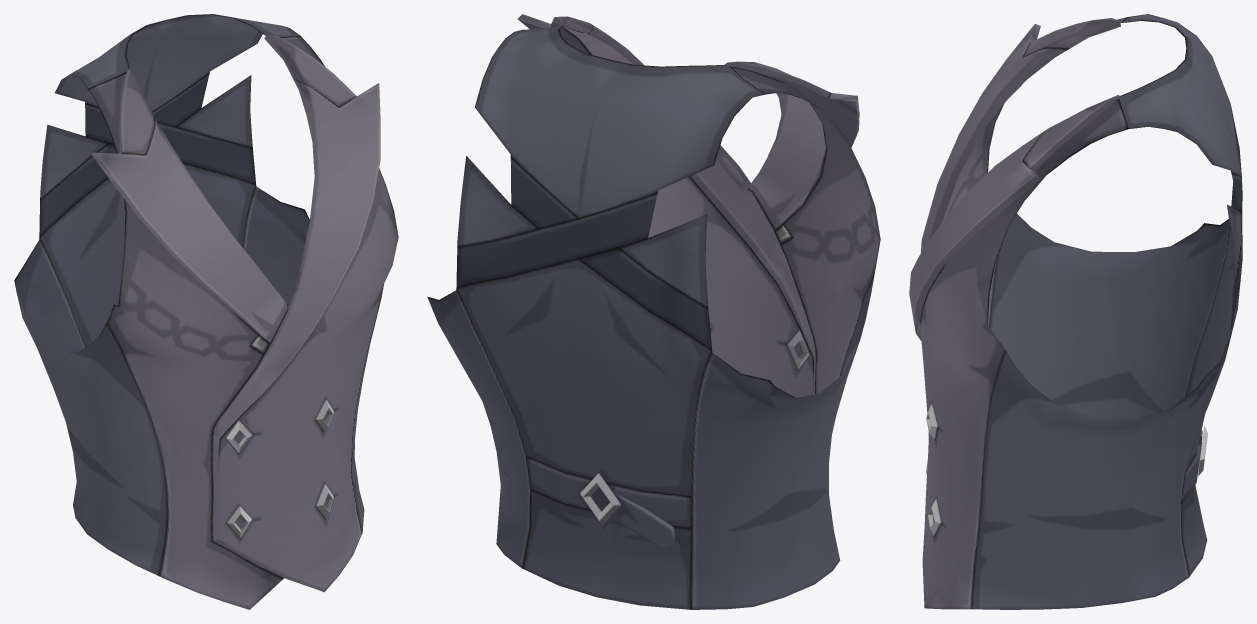
File: W_Vest.glb
3 views of the same model, side by side, from view 1: azimuth 30°, elevation 25°; view 2: azimuth 150°, elevation 25°; view 3: azimuth 270°, elevation 25° (orthographic). The views are drawn at different scales.
Visible parts, largest first — view 1: W_Vest; view 2: W_Vest; view 3: W_Vest.
Part boxes in pixels (x1,y1,x2,y2): W_Vest: [14, 14, 398, 609]; W_Vest: [427, 14, 880, 609]; W_Vest: [909, 14, 1242, 609].
Size of the model in its own units: 0.2916 by 0.4416 by 0.2471.
Materials: 1 (1 with a texture image).
